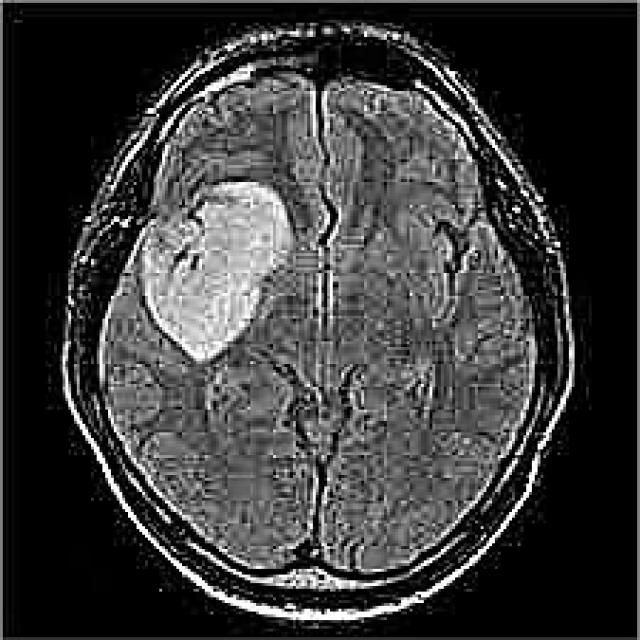Tumor-Cell: (128, 164, 288, 356)
